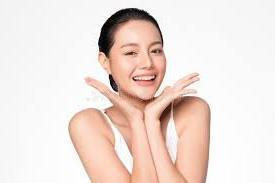Sober: (113, 20, 166, 98)
